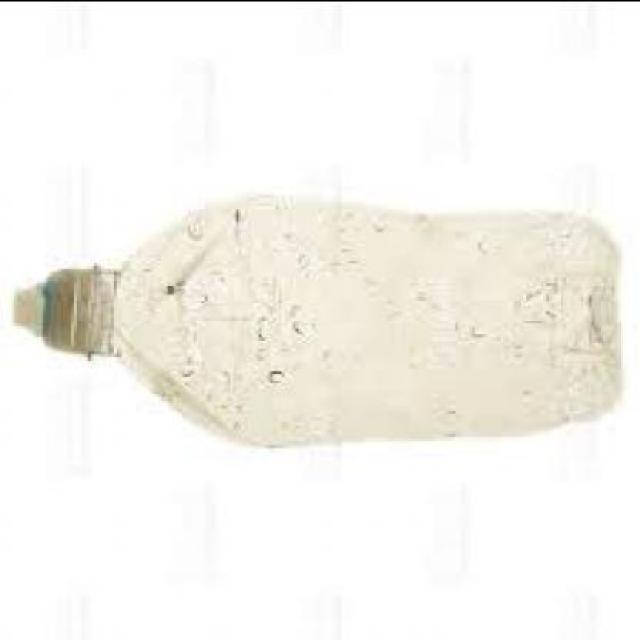PLASTIC: (8, 191, 614, 452), (11, 268, 100, 362)
